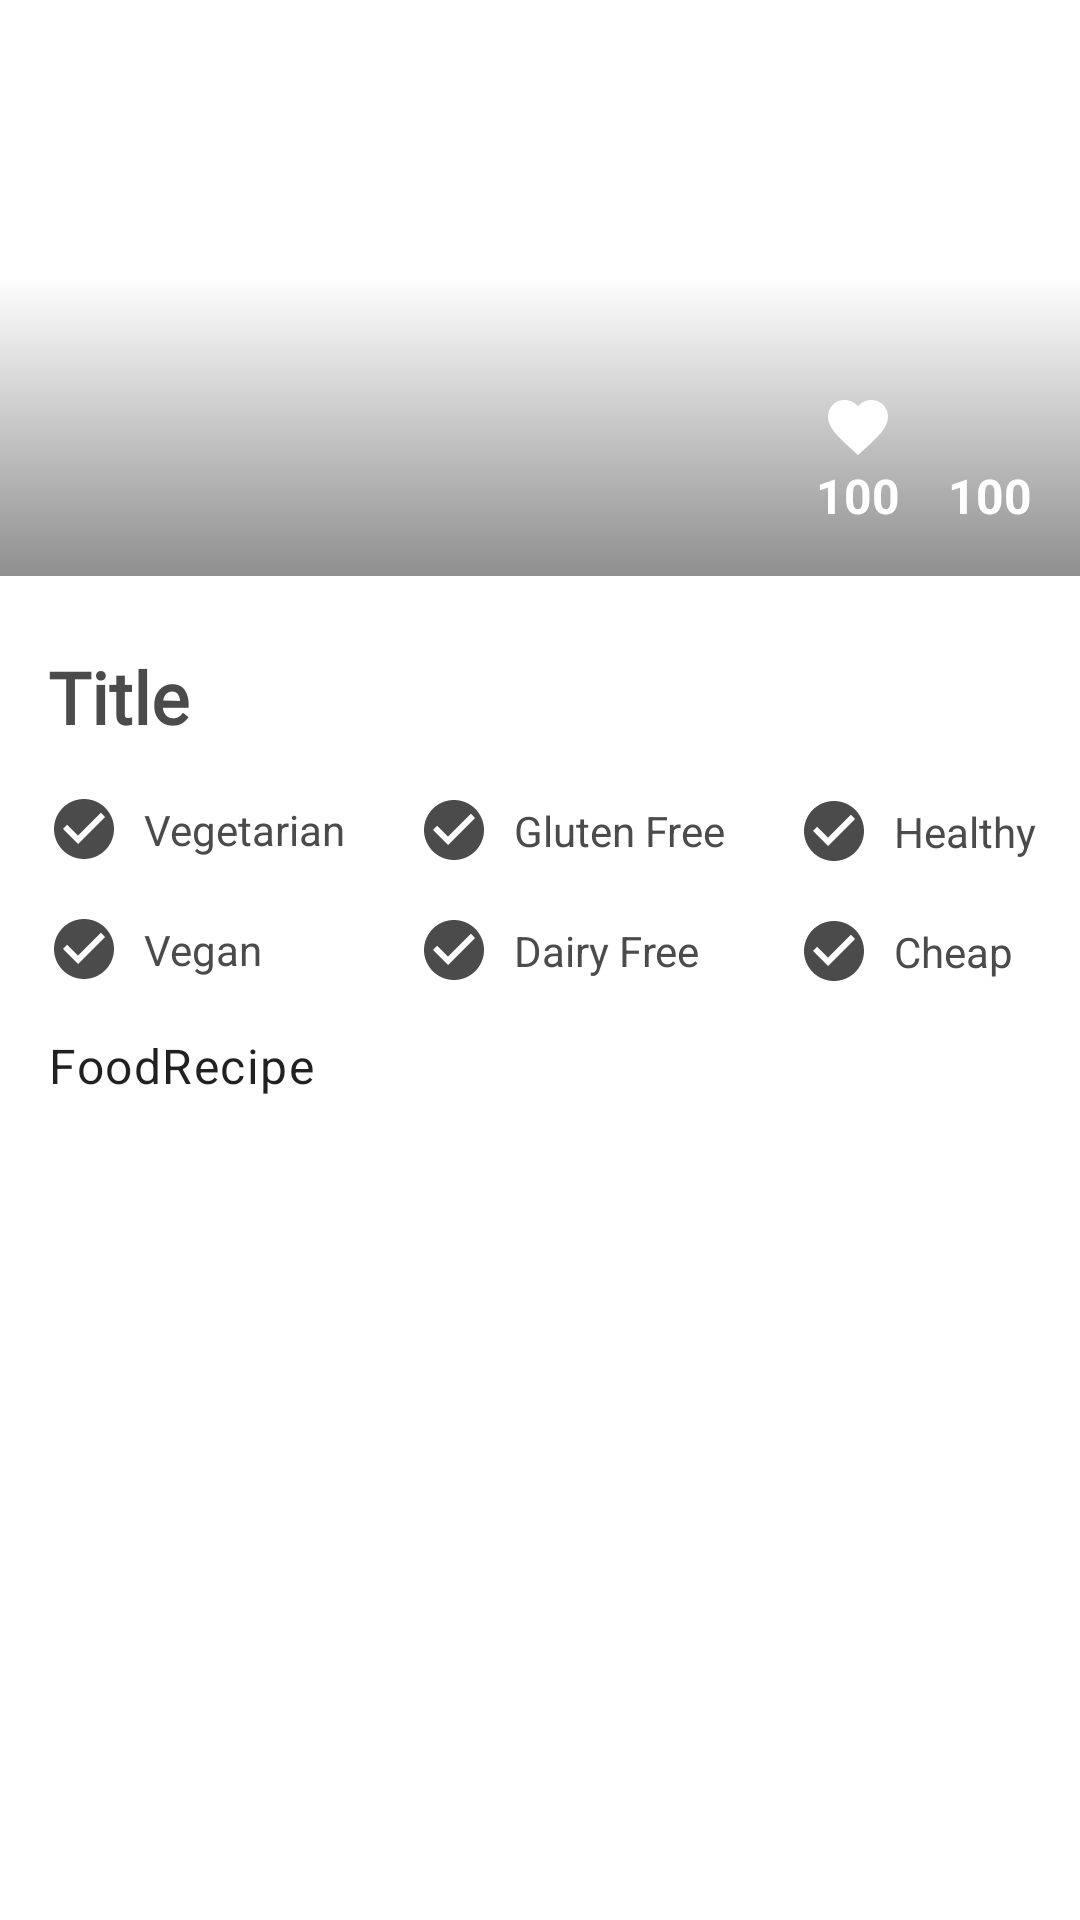

Named icons in this screenshot (1080px×1920px) and their centers, (x=x, y=y):
check: (x=84, y=829), (x=454, y=830), (x=834, y=831), (x=84, y=949), (x=454, y=950), (x=834, y=951)
heart: (x=858, y=431)
